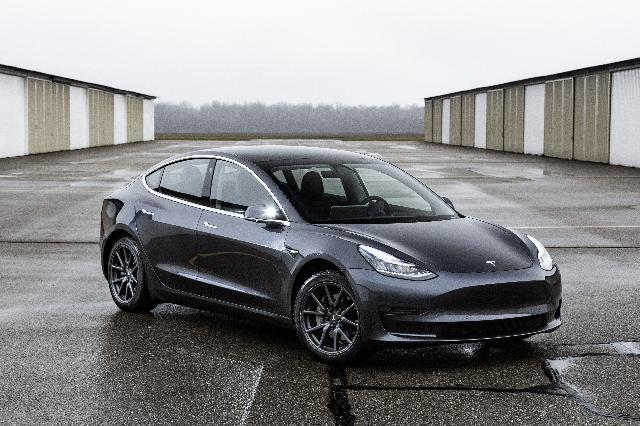tesla: (98, 146, 564, 364)
